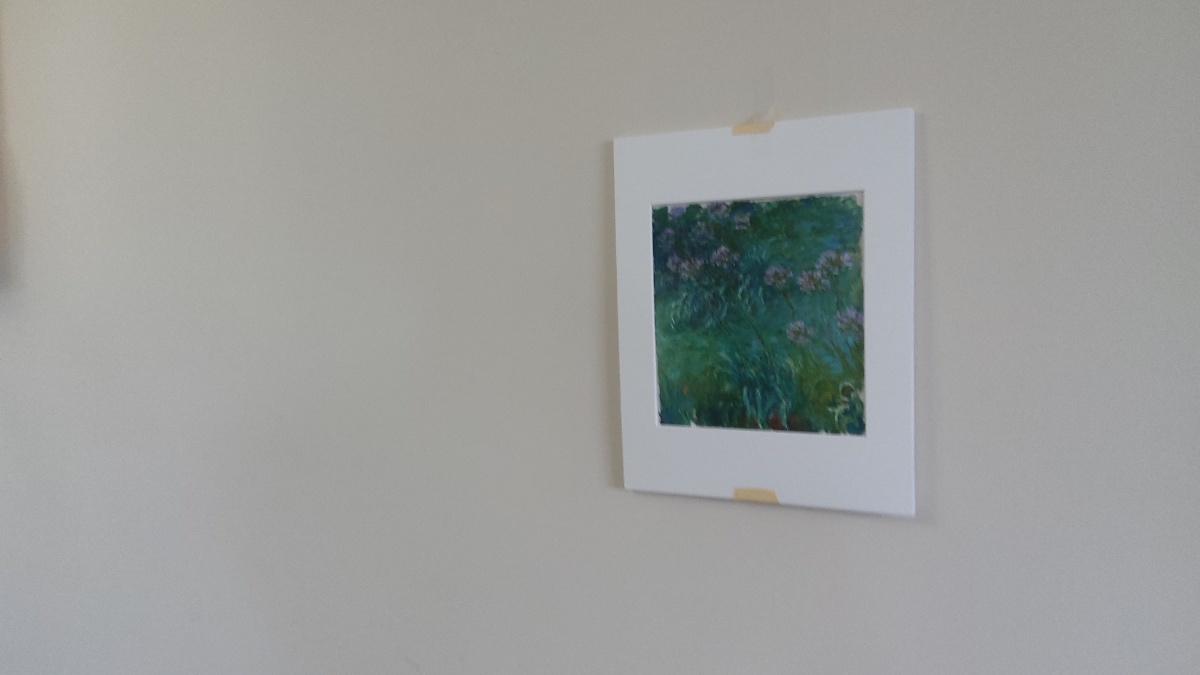painting: (639, 184, 887, 447)
